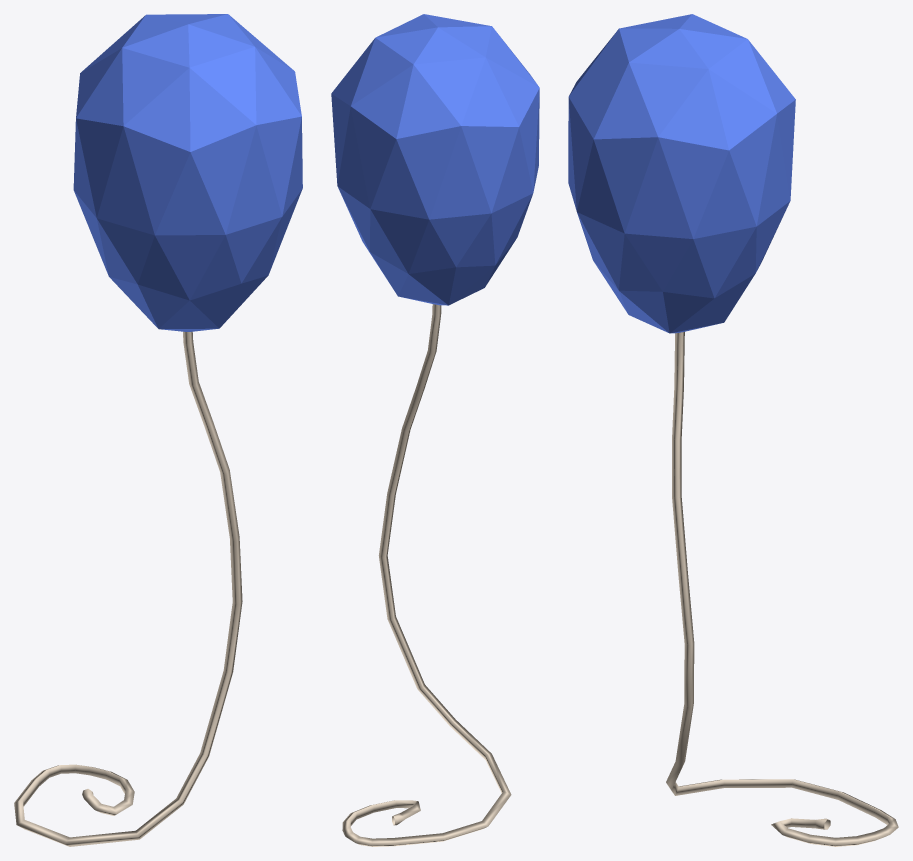
Rendered from BallonBleu.fbx.
3 renders of one model, left to right at view 1: azimuth 30°, elevation 25°; view 2: azimuth 150°, elevation 25°; view 3: azimuth 270°, elevation 25°, orthographic. The views are drawn at different scales.
Parts seen in each view (by area): view 1: Icosphere.001; view 2: Icosphere.001; view 3: Icosphere.001.
Boxes of the visible parts, bbox=[...] form: Icosphere.001: bbox=[14, 14, 302, 846]; Icosphere.001: bbox=[331, 14, 539, 846]; Icosphere.001: bbox=[568, 14, 898, 846].
Size of the model in its own units: 1.07 by 3.96 by 1.46.
